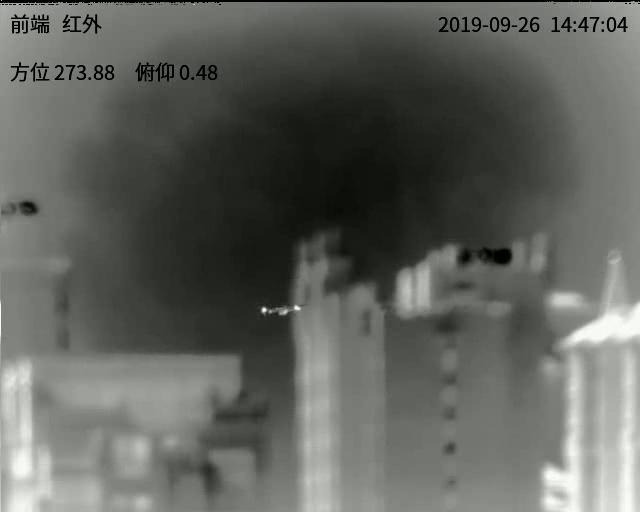DRONE: (259, 304, 305, 318)
